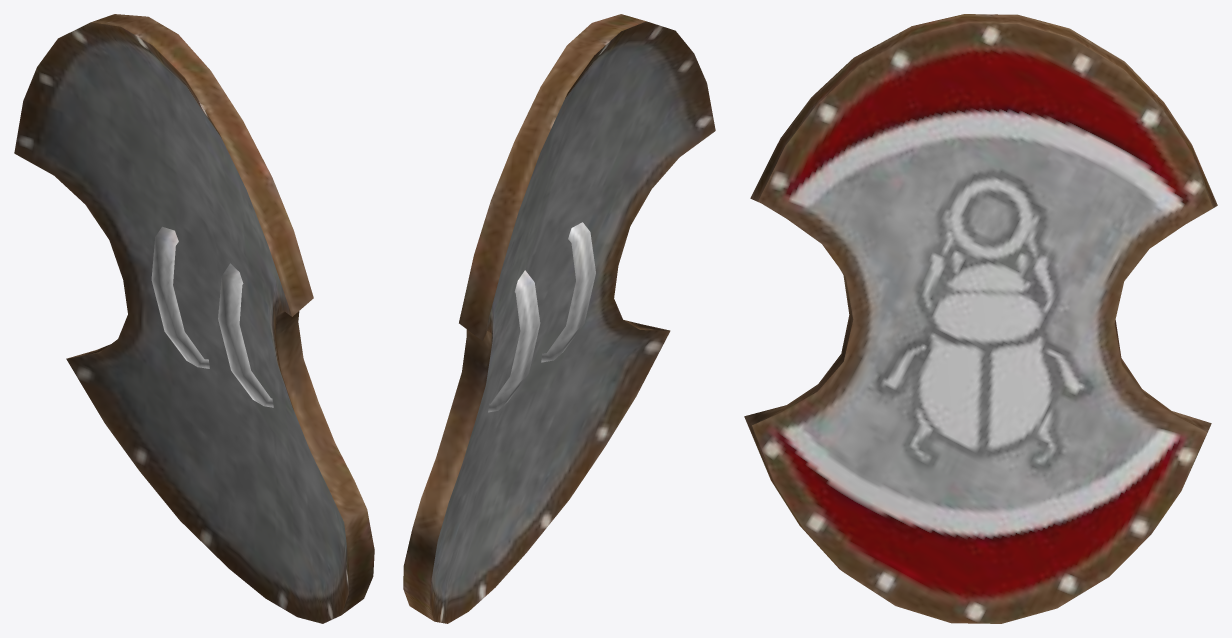
The model's file is rider-shield-slice-bronzeshields.glb.
3 renders of one model, left to right at view 1: azimuth 30°, elevation 25°; view 2: azimuth 150°, elevation 25°; view 3: azimuth 270°, elevation 25°, orthographic. The views are drawn at different scales.
Size of the model in its own units: 0.1511 by 0.518 by 0.4035.
Materials: 1 (1 with a texture image).
